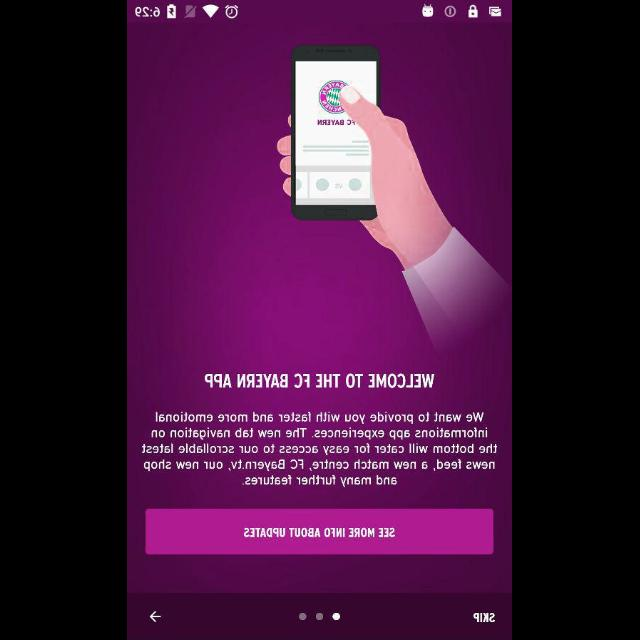icon: (150, 611, 162, 623)
image: (129, 40, 513, 360)
pageindicator: (299, 612, 341, 622)
text: (142, 410, 498, 488), (205, 373, 435, 389), (473, 613, 495, 623)
textbutton: (146, 508, 494, 556)
uppertaskbar: (128, 1, 512, 23)
